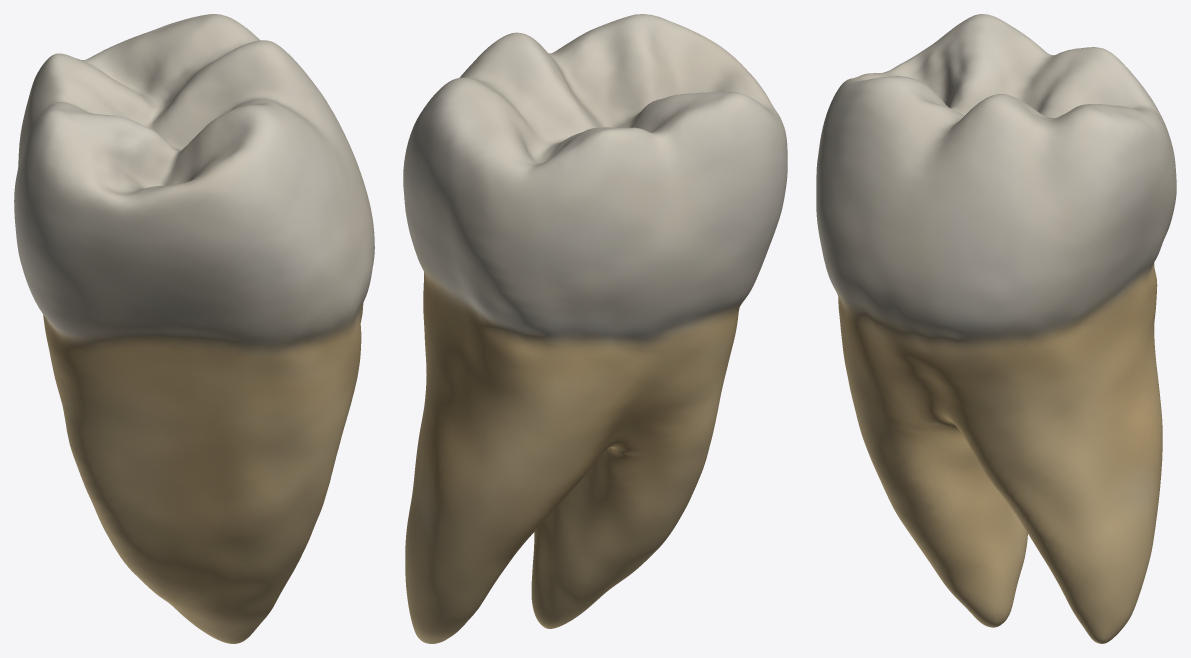
File: reference_molar.glb
The picture shows the model from 3 angles, left to right: view 1: azimuth 30°, elevation 25°; view 2: azimuth 150°, elevation 25°; view 3: azimuth 270°, elevation 25°; orthographic projection. The views are drawn at different scales.
Parts seen in each view (by area): view 1: Object_2; view 2: Object_2; view 3: Object_2.
Boxes of the visible parts, bbox=[...] form: Object_2: bbox=[14, 14, 374, 643]; Object_2: bbox=[403, 14, 787, 643]; Object_2: bbox=[816, 14, 1176, 643].
Size of the model in its own units: 1.1 by 1.83 by 1.11.
1 material, 1 textured.
